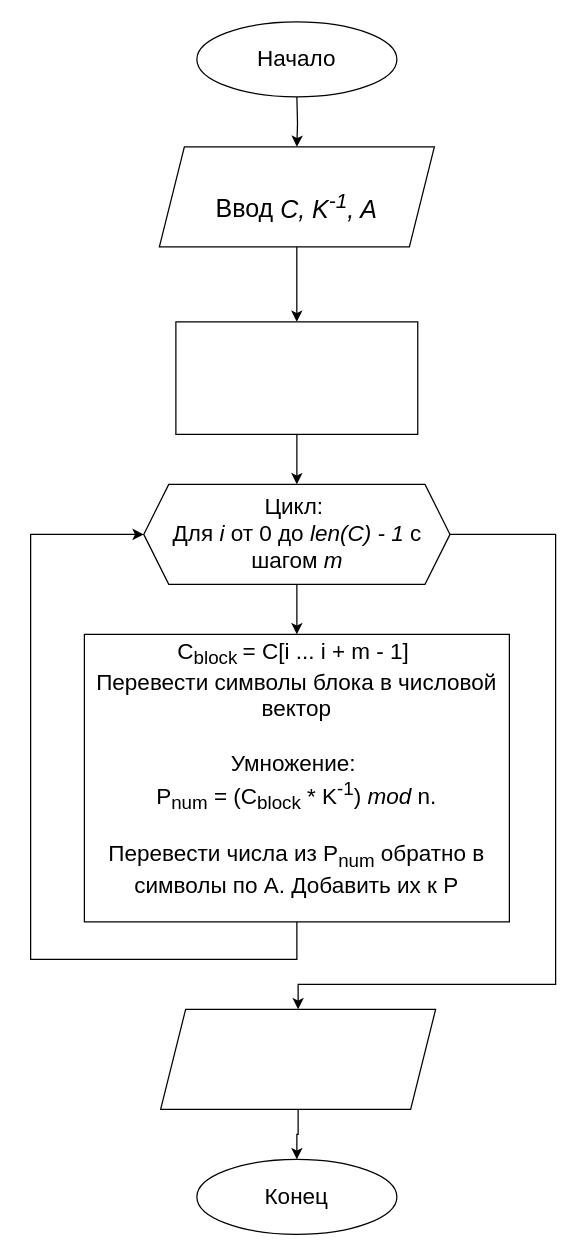
The diagram is 588 pixels wide and 1256 high, and some of its shapes have lost their labels. The centre of each missing label's shape, as x and y in pixels:
n = len(A); m = размер(K -1 ) P = "". .: pixel 296 377
Вывод P: pixel 297 1058
